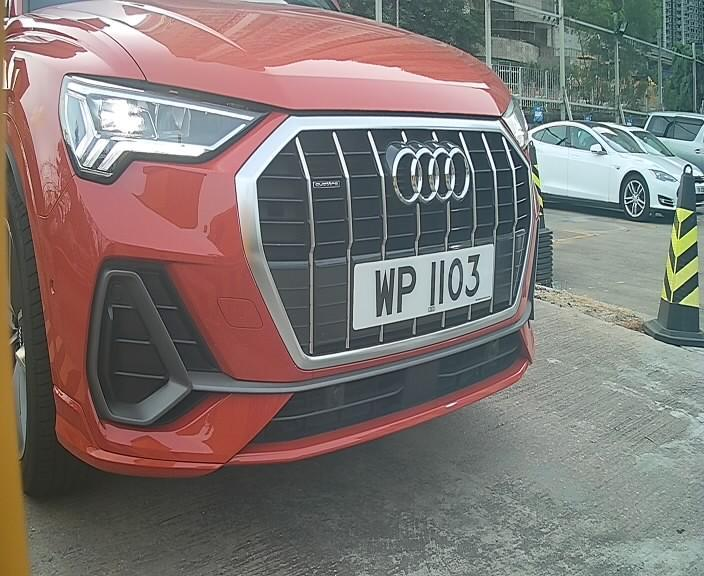License Plate: (349, 229, 497, 337)
